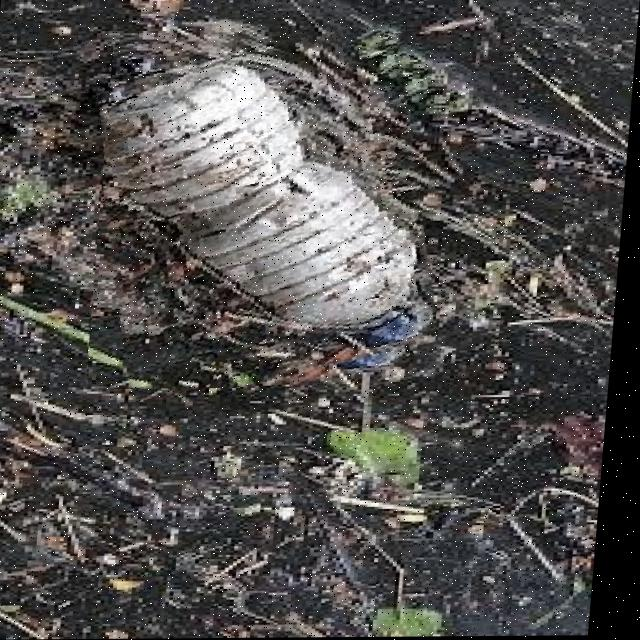litter: (91, 31, 449, 389)
